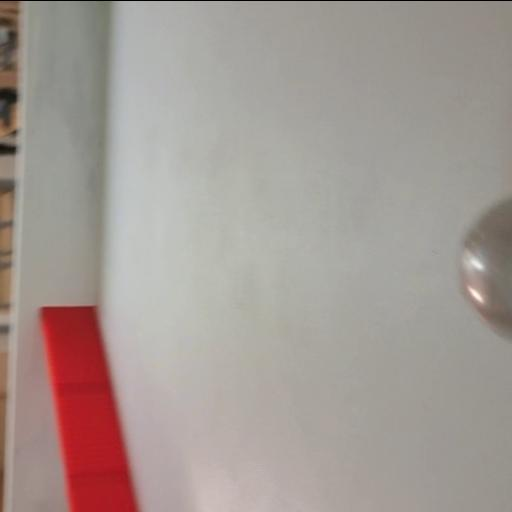alive: (456, 191, 512, 347)
